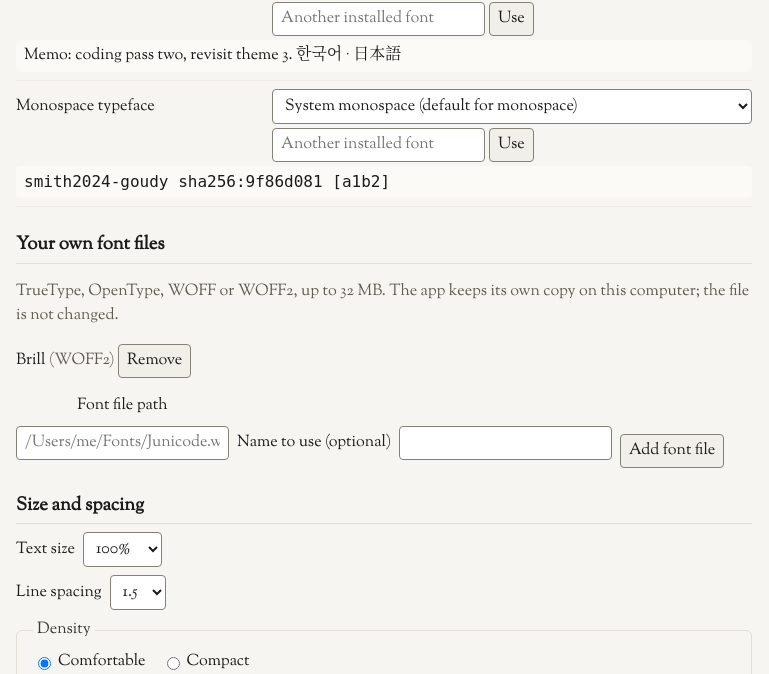
Test case: the list of added fonts cannot be read (Task 68) › a remove refused because the list became unreadable offers the reset too
The image size is (769, 674).
(page scrolled)
Check: the text "Brill" is shown, box [16,349,46,372]
Click the button with aria-label "Remove Brill".
click(154, 361)  # box [118,344,191,378]
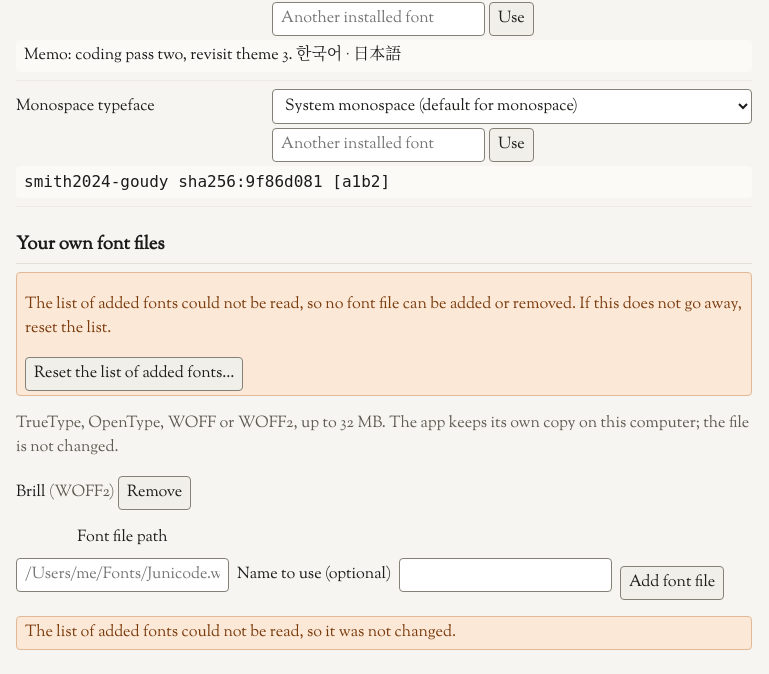
Check: the text "Brill" is shown, box [16,481,46,504]
Check: the button "Reset the list of added fonts…" is shown, box [25,357,243,391]
